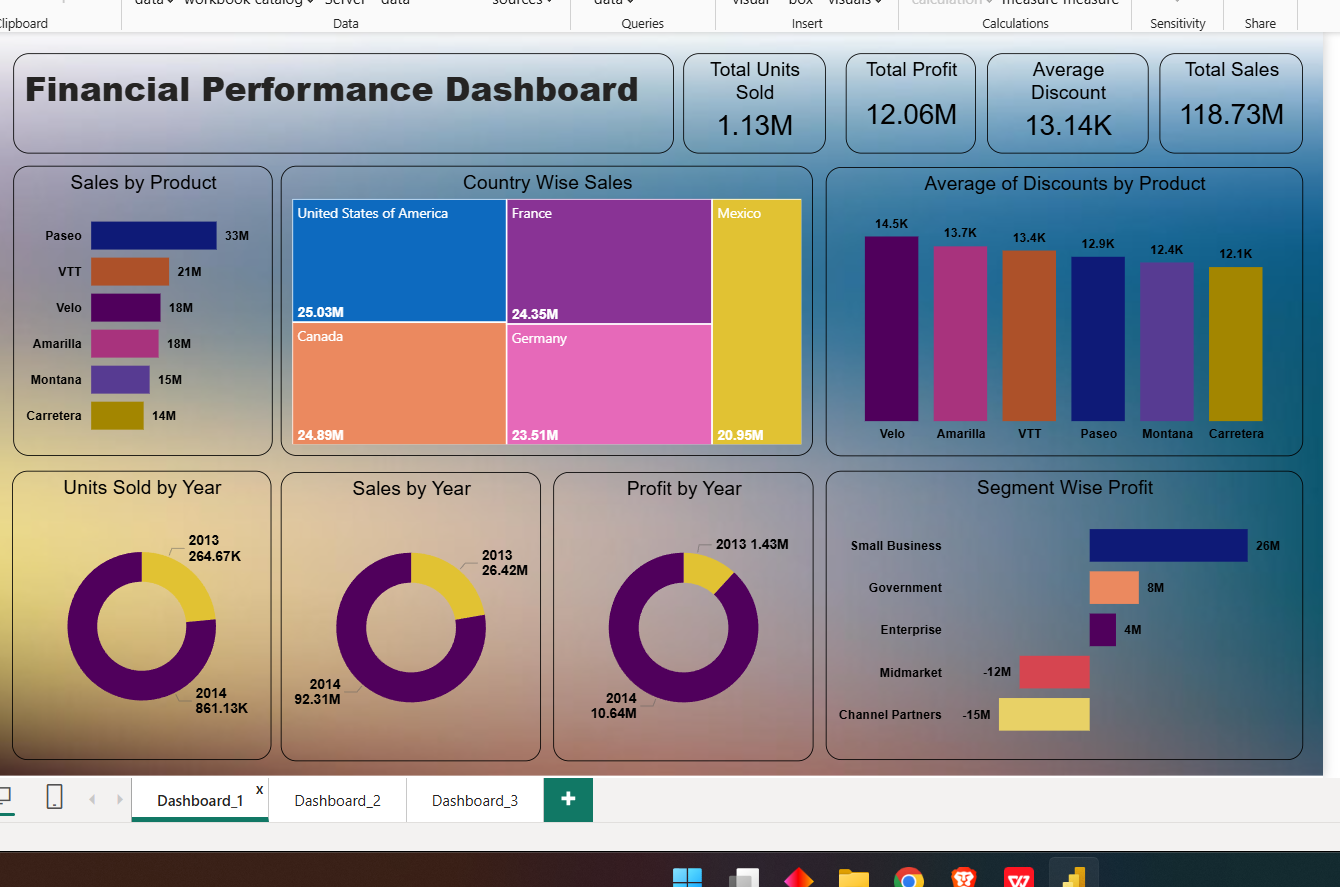

The page's visual inventory and layout, read from the dashboard file:
{"tool":"powerbi","page":{"name":"Dashboard_1","canvas":[1280,720],"ordinal":0},"visuals":[{"type":"clusteredBarChart","title":" Sales by Product","fields":{"Category":["Cleaned_Data.Product"],"Y":["Sum(Cleaned_Data. Sales)"]},"box":[15.1,129.1,250,280.2],"z":0},{"type":"clusteredBarChart","title":"Segment Wise Profit","fields":{"Category":["Cleaned_Data.Segment"],"Y":["Sum(Cleaned_Data.Profit)"]},"box":[800,423.3,460.5,279.1],"z":1000},{"type":"treemap","title":"Country Wise Sales","fields":{"Group":["Cleaned_Data.Country"],"Values":["Sum(Cleaned_Data. Sales)"]},"box":[274.4,129.1,514,280.2],"z":2000},{"type":"donutChart","title":"  Sales by Year","fields":{"Y":["Sum(Cleaned_Data. Sales)"],"Category":["Cleaned_Data.Date.Variation.Date Hierarchy.Year"]},"box":[274.4,424.4,251.2,279.1],"z":3000},{"type":"donutChart","title":"  Profit by Year","fields":{"Y":["Sum(Cleaned_Data.Profit)"],"Category":["Cleaned_Data.Date.Variation.Date Hierarchy.Year"]},"box":[537.2,424.4,251.2,279.1],"z":4000},{"type":"clusteredColumnChart","fields":{"Category":["Cleaned_Data.Product"],"Y":["Avg(Cleaned_Data.Discounts)"]},"box":[800,130.2,460.5,279.1],"z":5000},{"type":"donutChart","title":" Units Sold by Year","fields":{"Category":["Cleaned_Data.Date.Variation.Date Hierarchy.Year","Cleaned_Data.Date.Variation.Date Hierarchy.Quarter","Cleaned_Data.Date.Variation.Date Hierarchy.Month","Cleaned_Data.Date.Variation.Date Hierarchy.Day"],"Y":["Sum(Cleaned_Data.Units Sold)"]},"box":[15,423,250,279],"z":6000},{"type":"card","title":"Total Sales","fields":{"Values":["Sum(Cleaned_Data. Sales)"]},"box":[1122.1,20.9,138.4,96.5],"z":7000},{"type":"card","title":"Total Profit","fields":{"Values":["Sum(Cleaned_Data.Profit)"]},"box":[819.8,20.9,125.6,96.5],"z":8000},{"type":"card","title":"Total Units Sold","fields":{"Values":["Sum(Cleaned_Data.Units Sold)"]},"box":[662.8,20.9,137.2,96.5],"z":9000},{"type":"card","title":"Average Discount","fields":{"Values":["Avg(Cleaned_Data.Discounts)"]},"box":[955.8,20.9,155.8,96.5],"z":10000},{"type":"textbox","box":[15.1,20.9,637.2,96.5],"z":11000}]}

Visuals, with their boxes on the page's 1280x720 design canvas (x1, y1, x2, y2). These are canvas units, not pixel positions in the 1340x887 screenshot, which may show the page scaled, cropped or inside an application window:
" Sales by Product" clusteredBarChart: [left=15, top=129, right=265, bottom=409]
"Segment Wise Profit" clusteredBarChart: [left=800, top=423, right=1260, bottom=702]
"Country Wise Sales" treemap: [left=274, top=129, right=788, bottom=409]
"  Sales by Year" donutChart: [left=274, top=424, right=526, bottom=704]
"  Profit by Year" donutChart: [left=537, top=424, right=788, bottom=704]
clusteredColumnChart - Cleaned_Data.Product x Avg(Cleaned_Data.Discounts): [left=800, top=130, right=1260, bottom=409]
" Units Sold by Year" donutChart: [left=15, top=423, right=265, bottom=702]
"Total Sales" card: [left=1122, top=21, right=1260, bottom=117]
"Total Profit" card: [left=820, top=21, right=945, bottom=117]
"Total Units Sold" card: [left=663, top=21, right=800, bottom=117]
"Average Discount" card: [left=956, top=21, right=1112, bottom=117]
textbox: [left=15, top=21, right=652, bottom=117]
